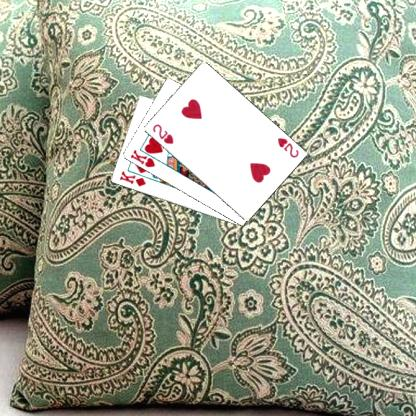2H: (274, 135, 300, 159), (150, 121, 174, 145)
KD: (117, 168, 147, 187)
KH: (128, 147, 156, 169)
